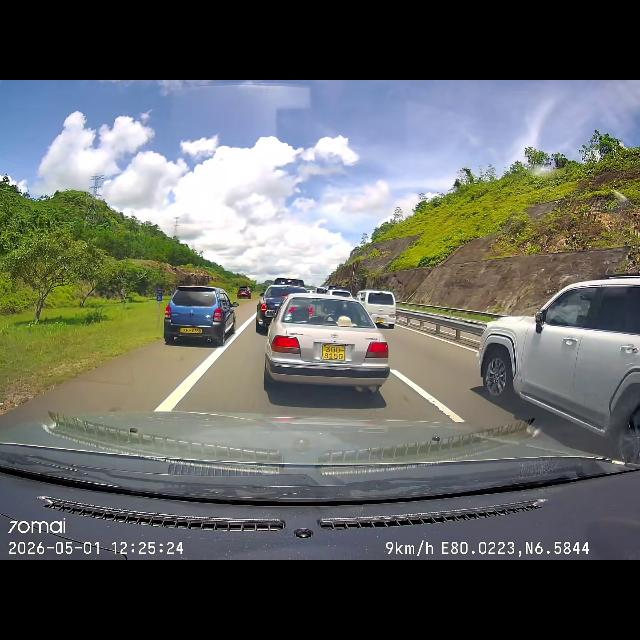car: (552, 284, 632, 428), (285, 299, 373, 385), (166, 286, 232, 342), (373, 291, 397, 321)
number_plate: (317, 344, 348, 364), (177, 323, 207, 335)
solid_line: (128, 348, 225, 410)
